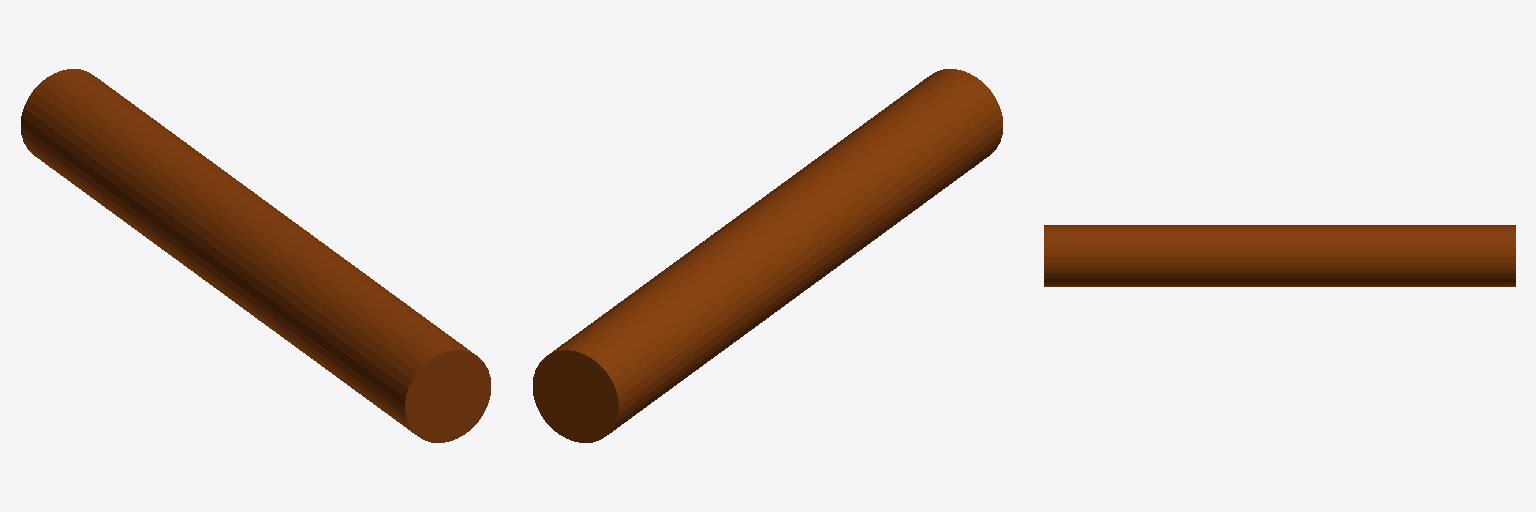
robot.urdf — cylinder:
<?xml version="1.0" ?>
<!-- =================================================================================== -->
<!-- |    This document was autogenerated by xacro from cylinder.xacro                 | -->
<!-- |    EDITING THIS FILE BY HAND IS NOT RECOMMENDED                                 | -->
<!-- =================================================================================== -->
<robot name="cylinder">
  <link name="world"/>
  <link name="base">
    <visual>
      <origin rpy="1.57079633 0 0" xyz="0 0 0"/>
      <geometry>
        <cylinder length="7.07106781185" radius="0.46"/>
      </geometry>
      <material name="cylinder_material">
        <color rgba="0.545 0.271 0.075 1.0"/>
        <texture filename="../textures/tree_bark.jpg"/>
      </material>
    </visual>
    <collision>
      <origin rpy="1.57079633 0 0" xyz="0 0 0"/>
      <geometry>
        <cylinder length="7.07106781185" radius="0.46"/>
      </geometry>
    </collision>
    <inertial>
      <origin rpy="0 0 0" xyz="0 0 0"/>
      <mass value="1"/>
      <inertia ixx="4.219566666648428" ixy="0.0" ixz="0.0" iyy="4.219566666648428" iyz="0.0" izz="24.999999999890573"/>
    </inertial>
  </link>
  <joint name="base_joint" type="fixed">
    <parent link="world"/>
    <child link="base"/>
    <origin rpy="0 0 0" xyz="0.0 0.0 0.0"/>
  </joint>
</robot>

--- What the picture shows (computed from the rendered views, not written in the file) ---
3 views of the same robot in one strip: view 1: azimuth 30°, elevation 25°; view 2: azimuth 150°, elevation 25°; view 3: azimuth 270°, elevation 25° (orthographic).
Model cylinder with 2 links and 1 joints (1 fixed), rooted at world, posed every joint at zero.
Visible links, largest first — view 1: base; view 2: base; view 3: base.
Boxes of the visible links, x1,y1,x2,y2 form: base: [21, 69, 490, 442]; base: [533, 69, 1002, 442]; base: [1044, 225, 1515, 286].
Bounding box of the posed robot: 0.92 × 7.07 × 0.92 m (x, y, z).
Geometry: primitives only (box / cylinder / sphere), no mesh files.
